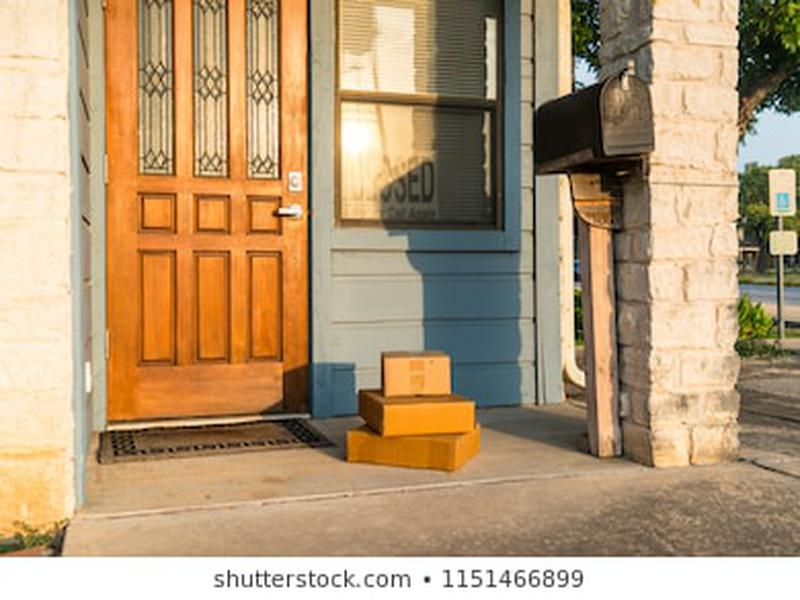package: (340, 429, 486, 476), (349, 390, 480, 439), (375, 347, 456, 399)
